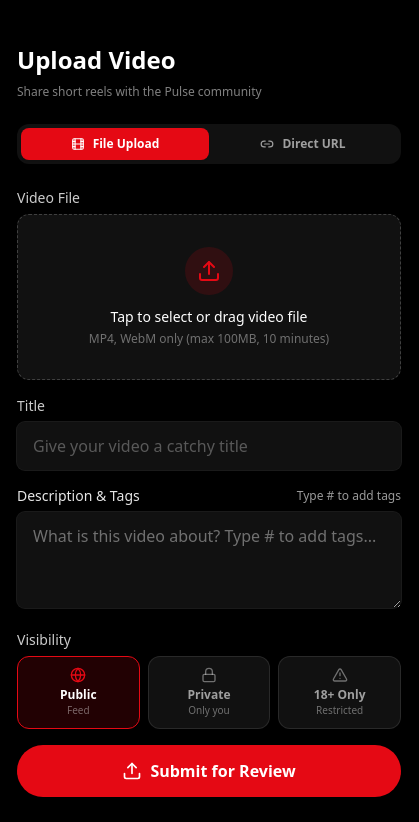
Test: UploadScreen Component (Phase 2) › allows submitting a video via Direct URL mode
// Switch to Direct URL mode
Step 1. Click the button "Direct URL" → (303, 144), box [209,128,397,160]
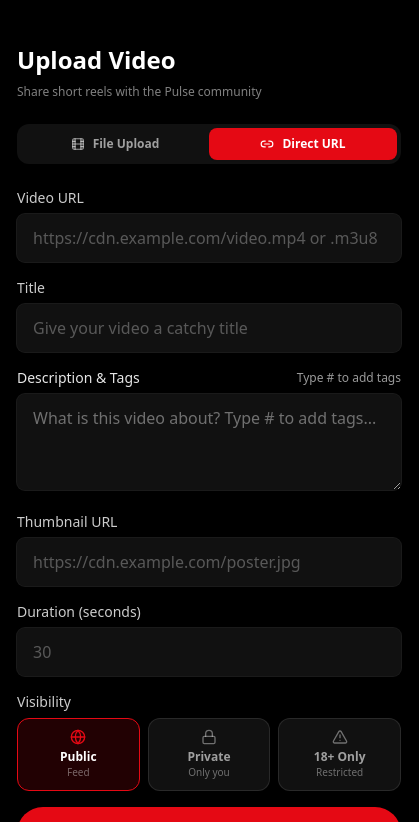
// Fill title and URL
Step 2. Type "Accra Street Dance #viral" into the field with placeholder "Give your video a catchy title" → (209, 328), box [17,304,401,352]
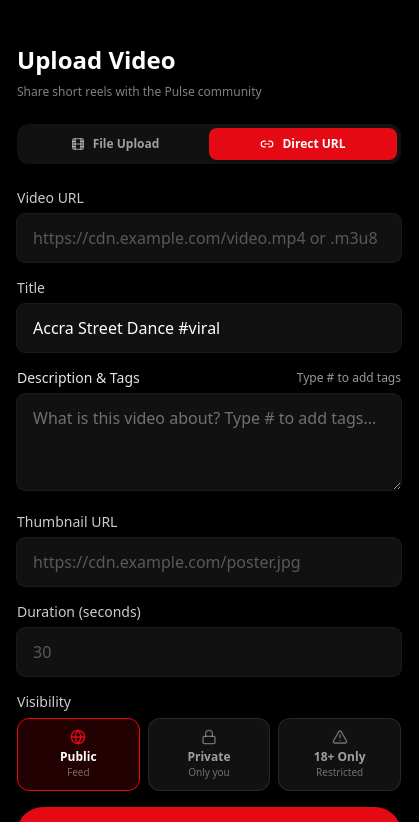
Step 3. Type "https://cdn.example.com/street-dance.mp4" into the field with placeholder "https://cdn.example.com/video.mp4 or .m3u8" → (209, 238), box [17,214,401,262]
(page scrolled)
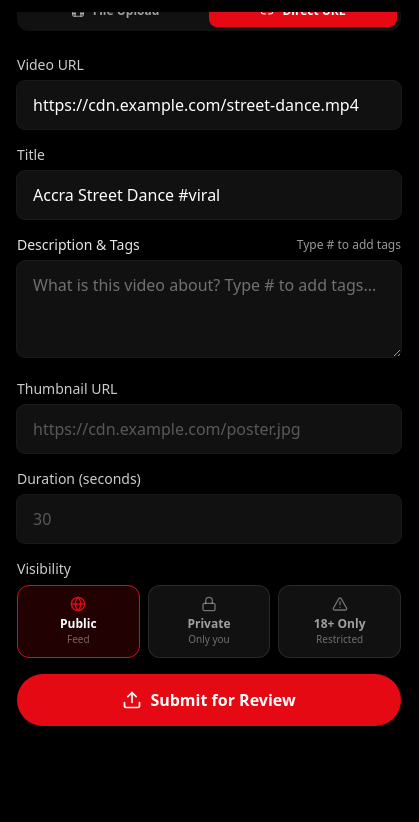
Step 4. Click the button "Submit for Review" → (209, 700), box [17,674,401,726]
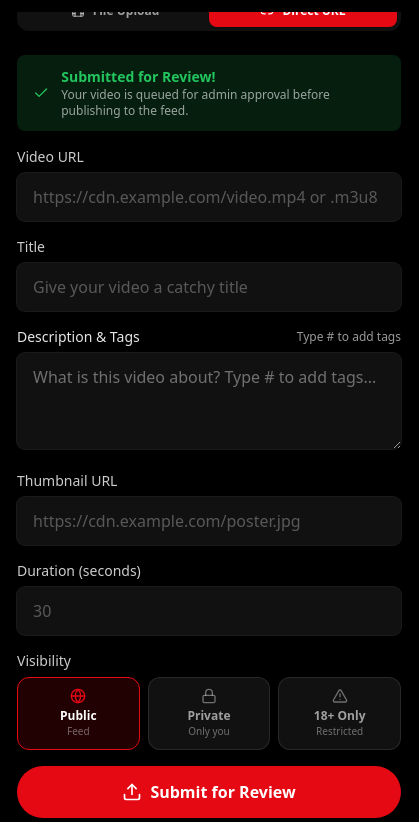
Expected: the text "Submitted for Review!" is shown, [61,67,216,86]
